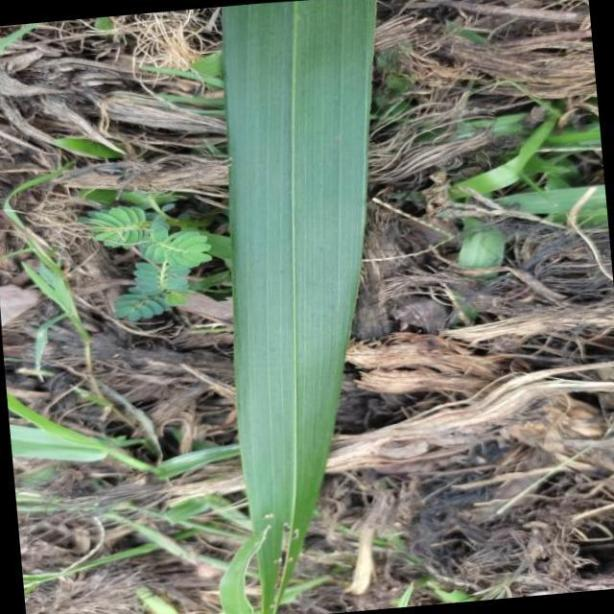Boron: (217, 0, 379, 614)
